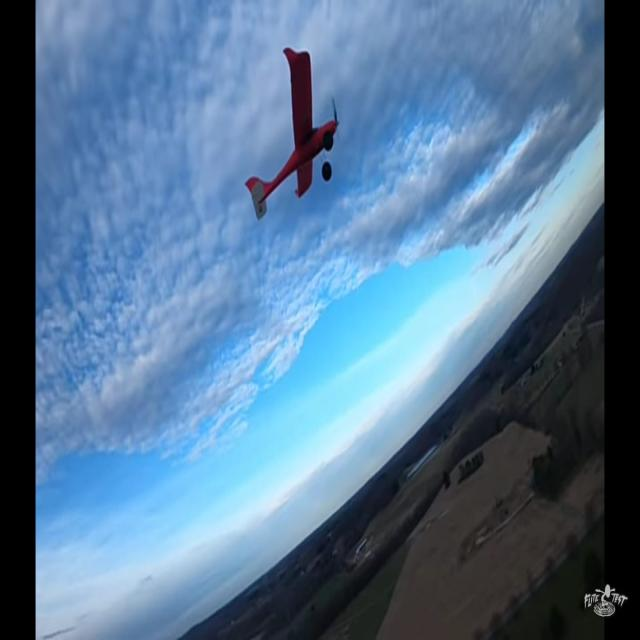iha: (277, 46, 307, 222)
